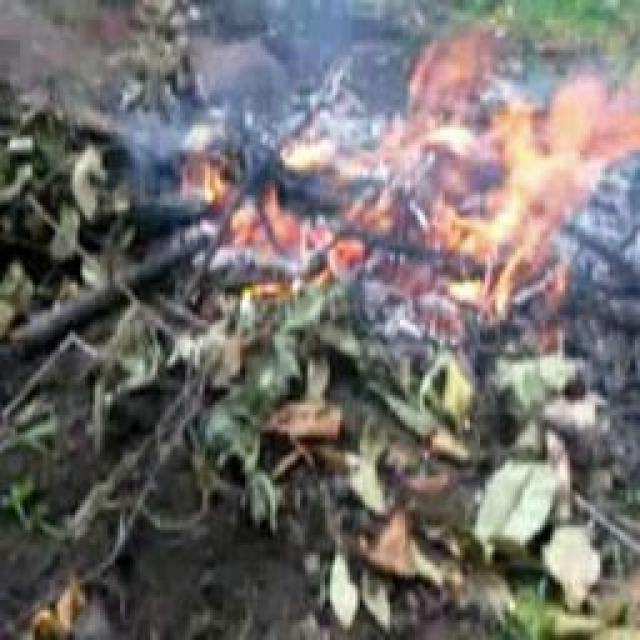Fire: (184, 22, 624, 307)
